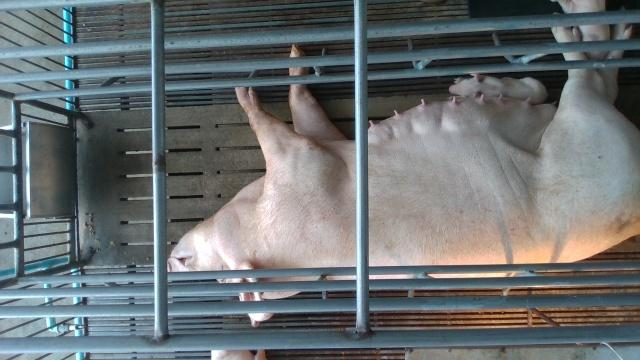piglet: (550, 0, 609, 60), (449, 73, 547, 106)
sow-sleep-lactate: (170, 20, 640, 328)
